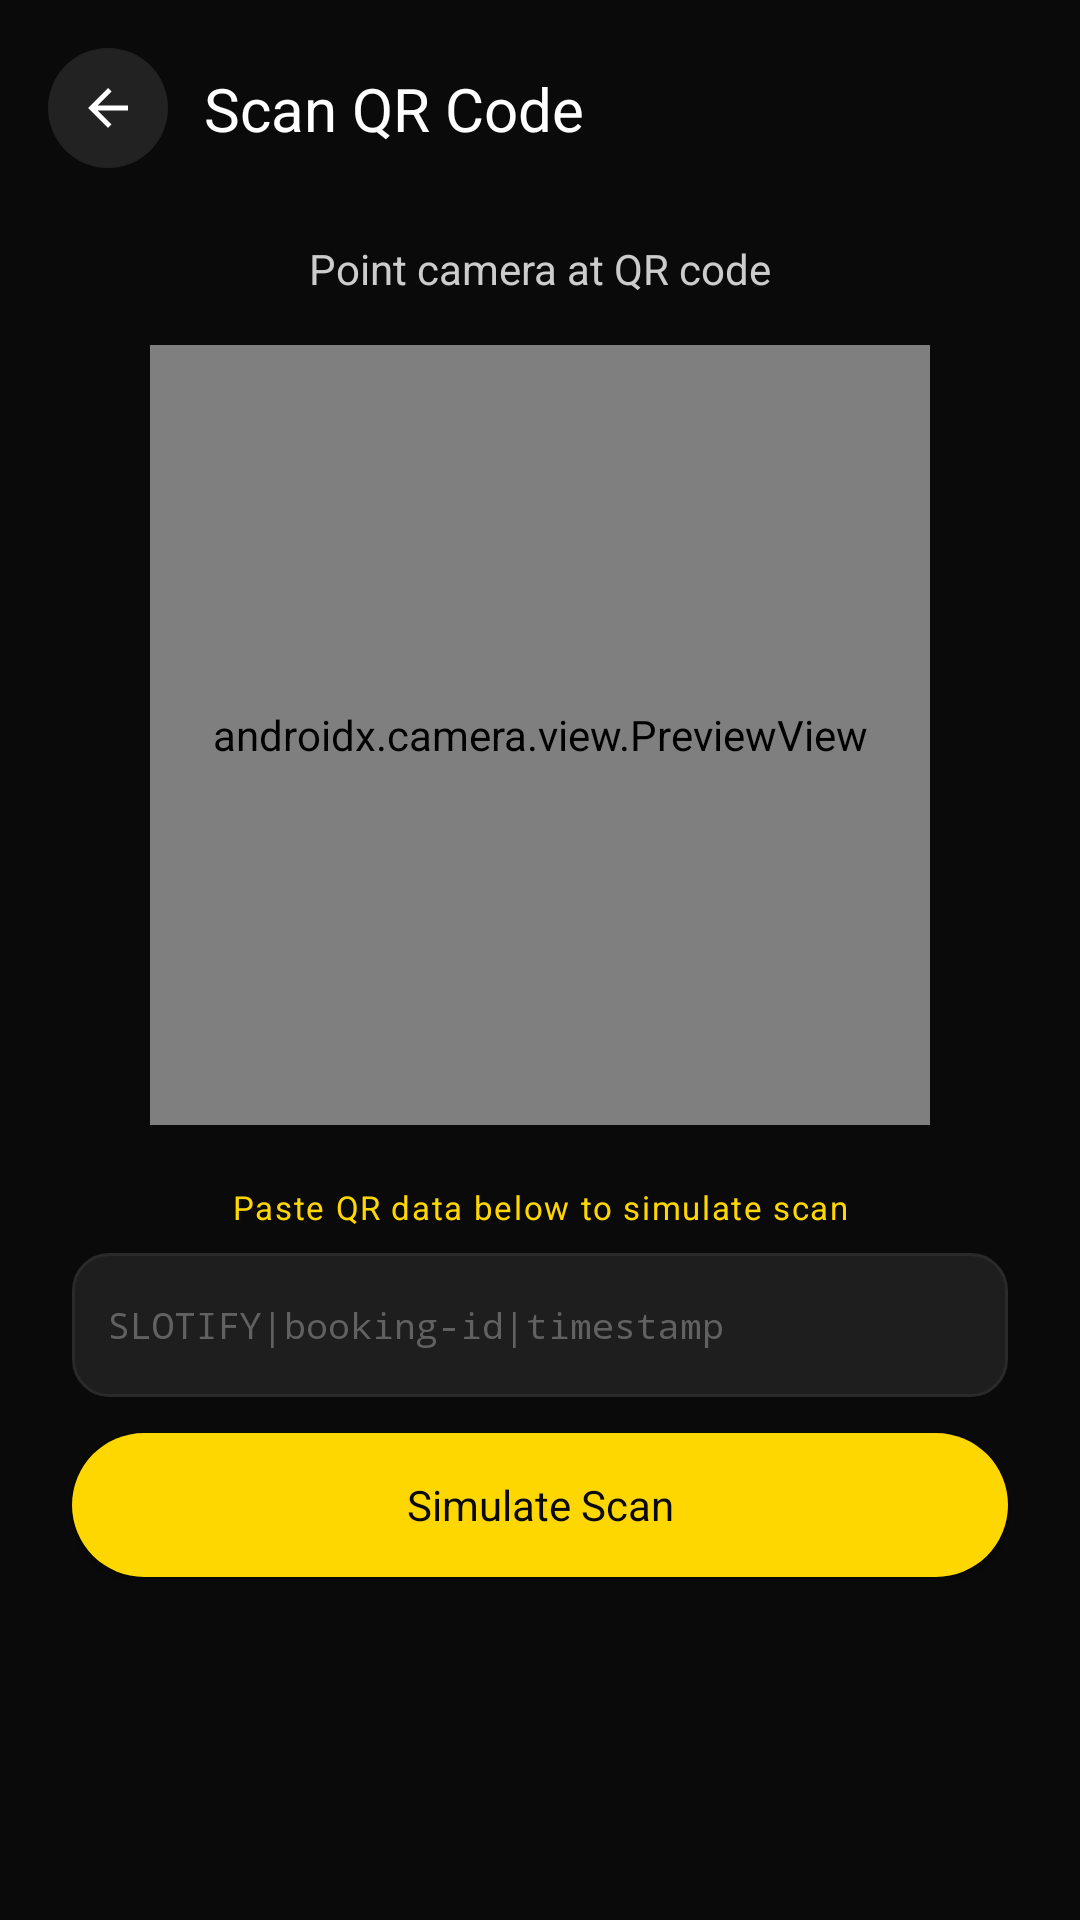

Screen size 1080 x 1920. Icon name, then its box in pixels as (left=x1, top=y1, right=x2, bottom=y2):
Back: (left=48, top=48, right=168, bottom=168)
